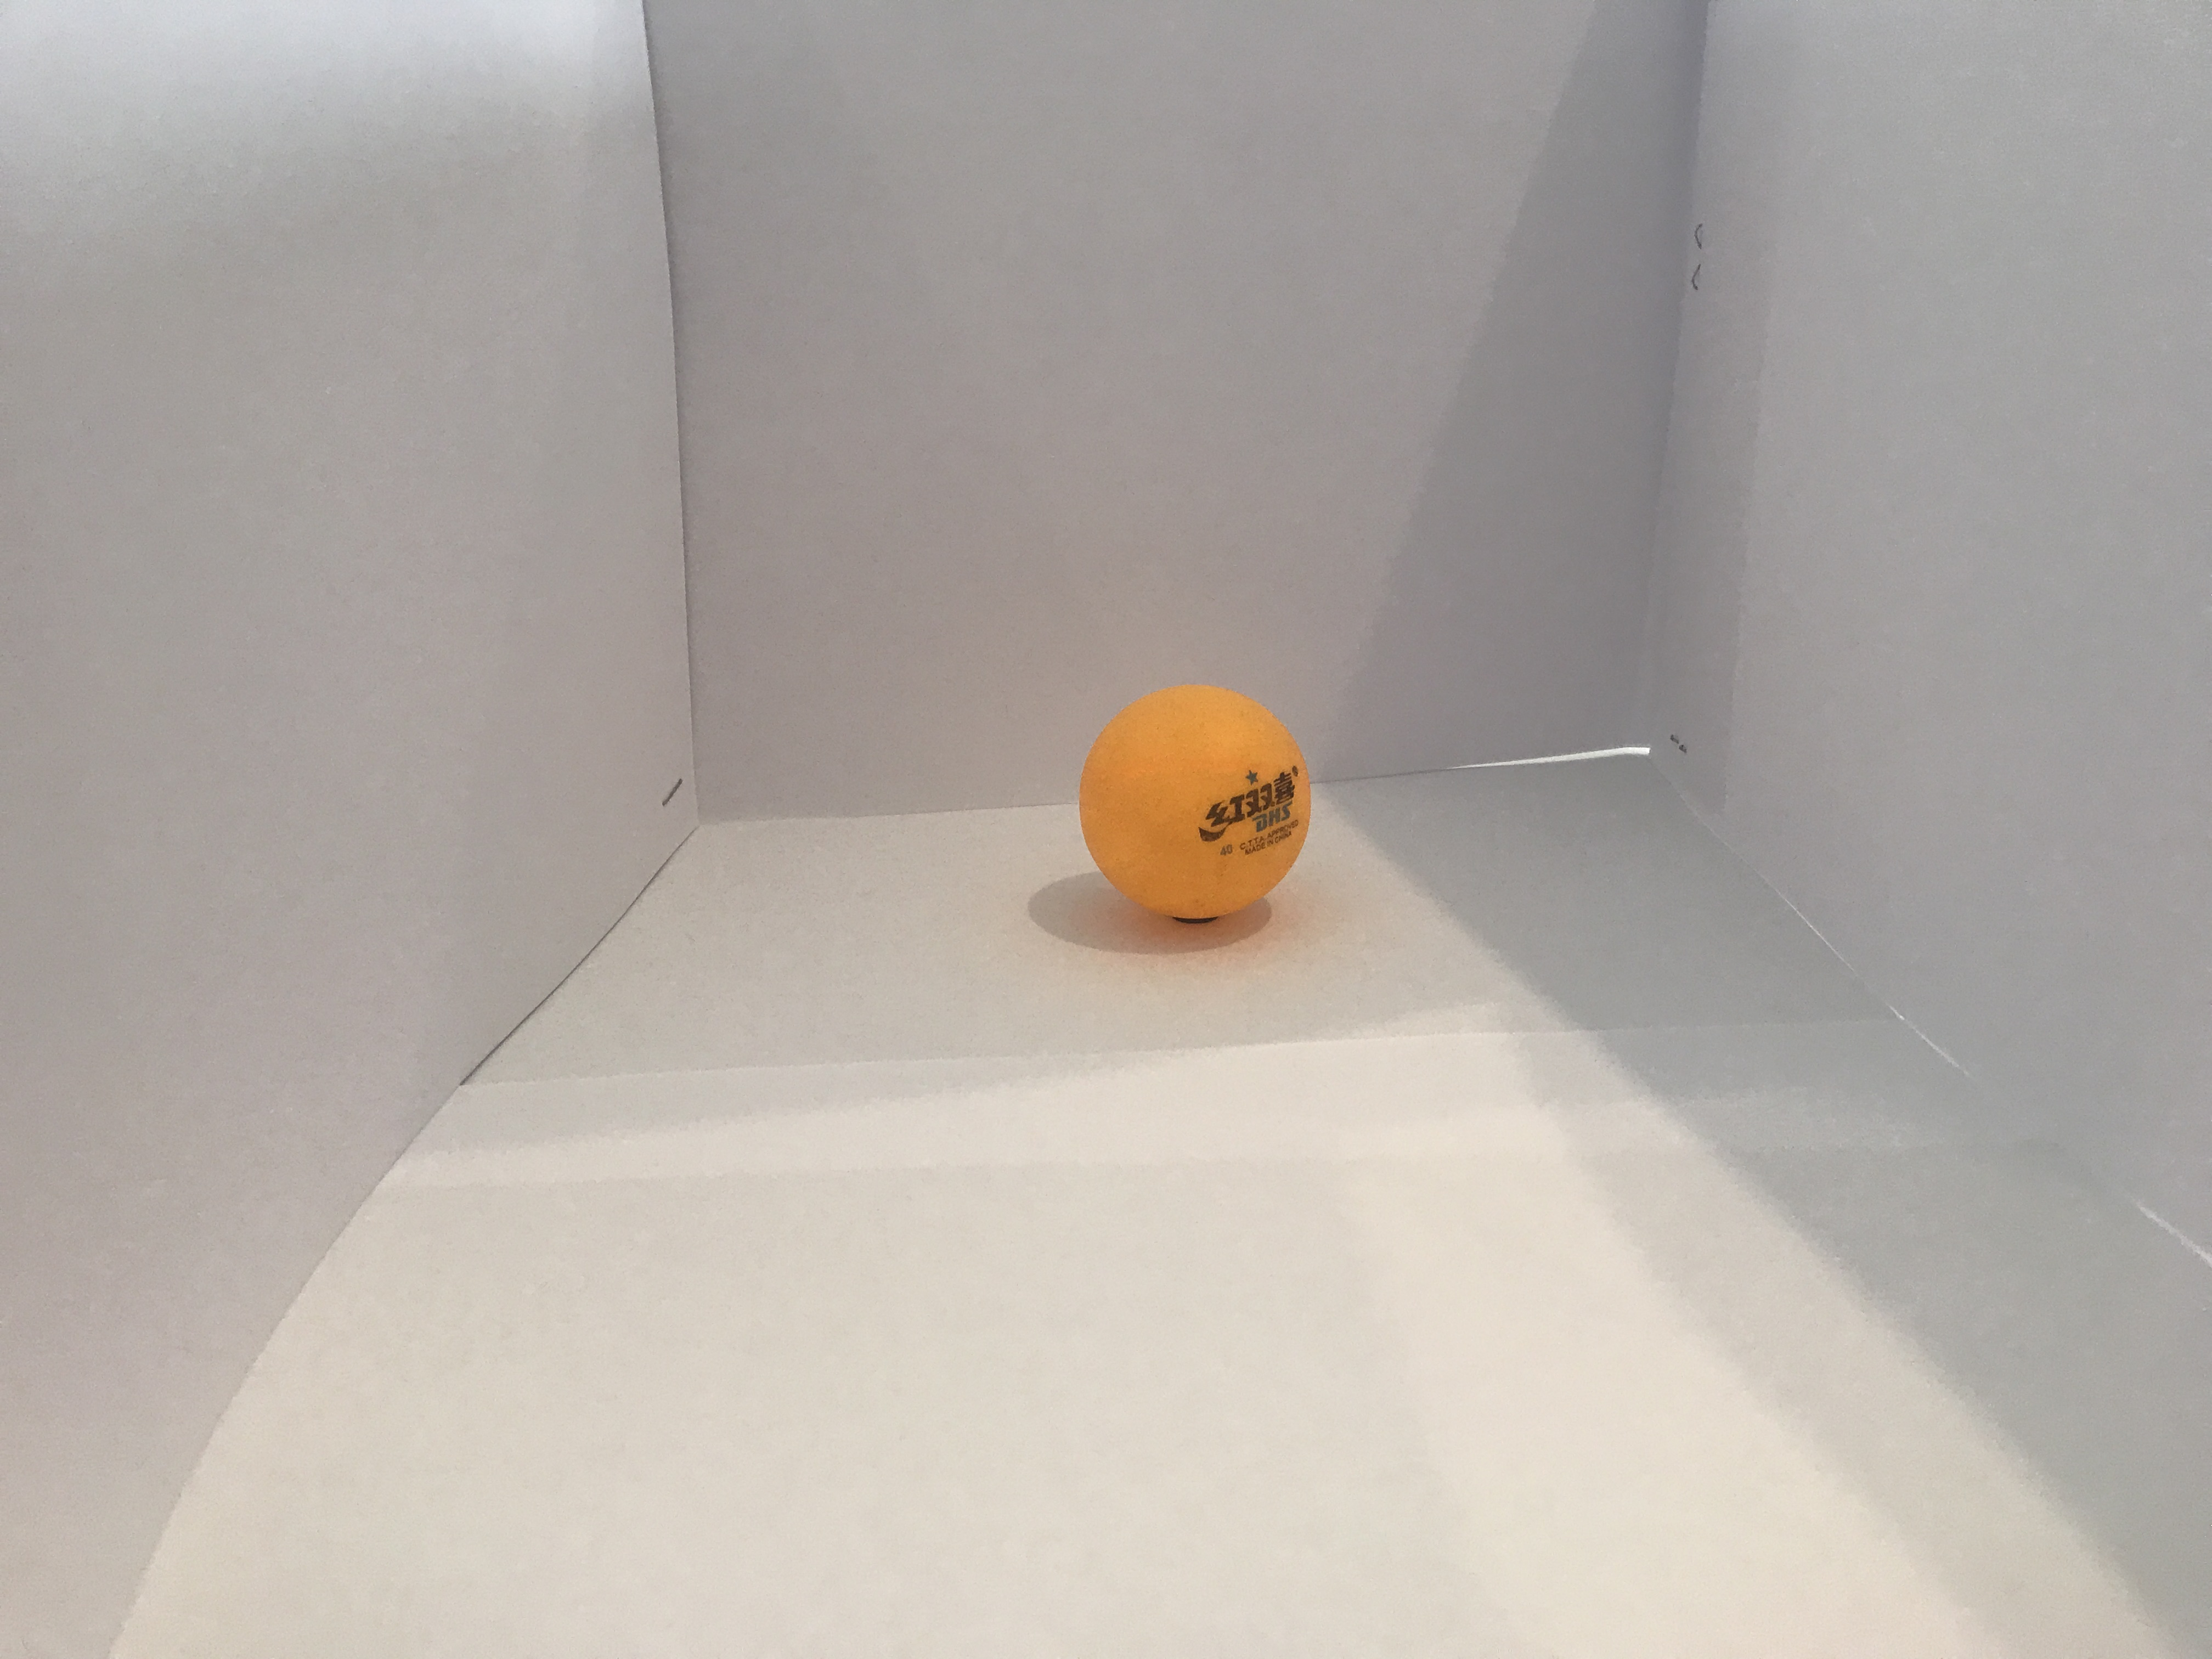pp: (1071, 680, 1315, 927)
